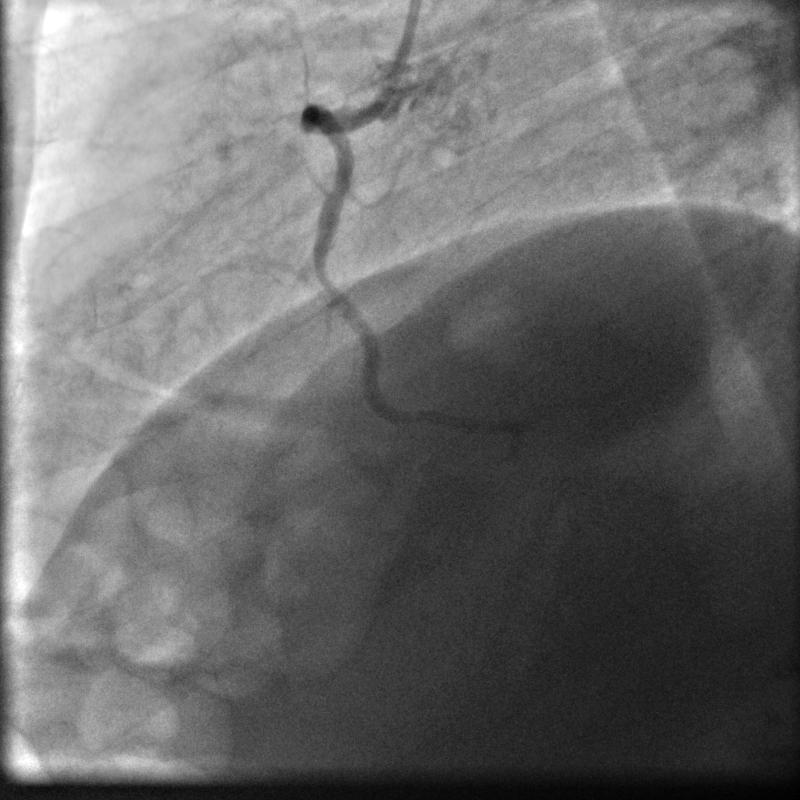Stenosis: (312, 267, 344, 292)
